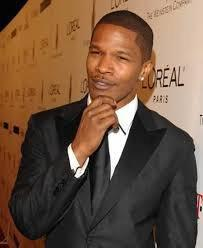Sober: (87, 29, 139, 99)
